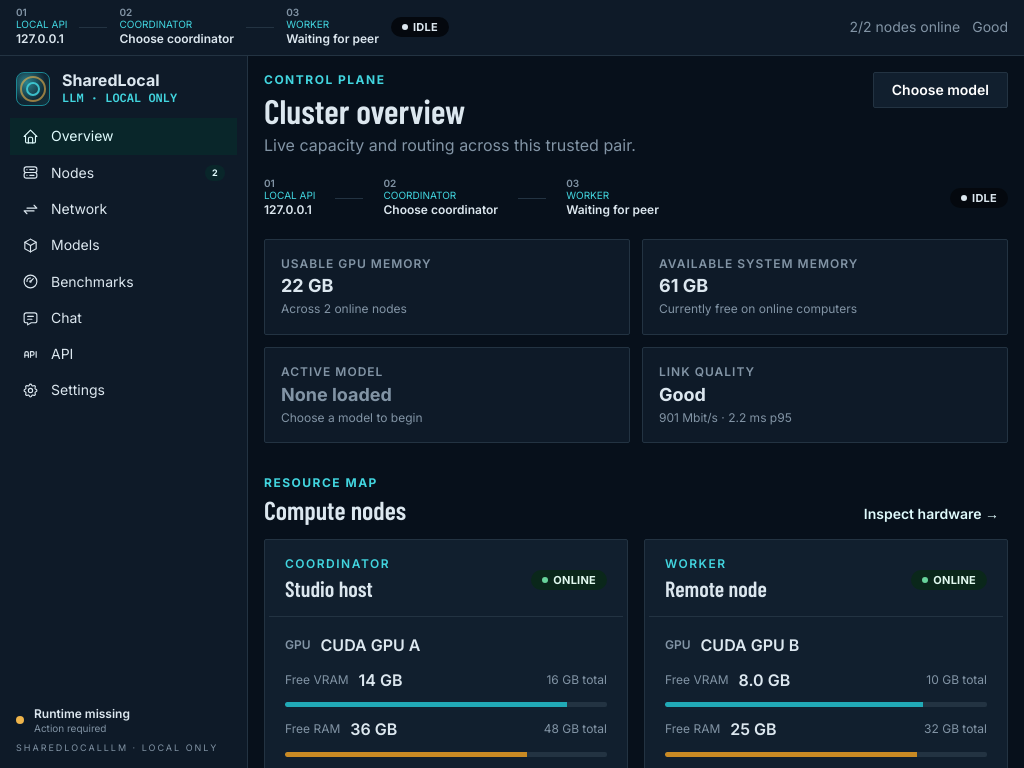
it: SharedLocalLLM app › explains why chat is unavailable without a runtime or model
The width and height of the screenshot is (1024, 768).
Expected: the heading "Cluster overview" is shown, [264, 90, 465, 131]
Click the button "Chat" at [124, 318], box [10, 300, 237, 336]
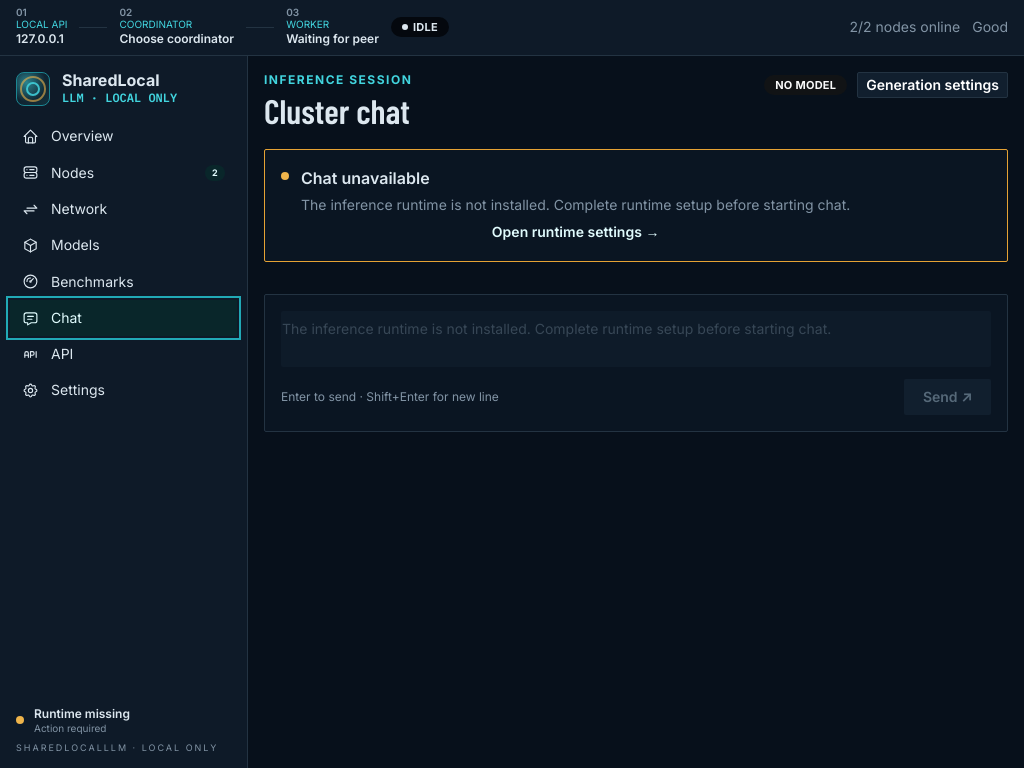
Expected: the message shows "runtime is not installed", [301, 196, 850, 213]
Expected: the button with aria-label "send message" is disabled, [904, 380, 991, 416]
